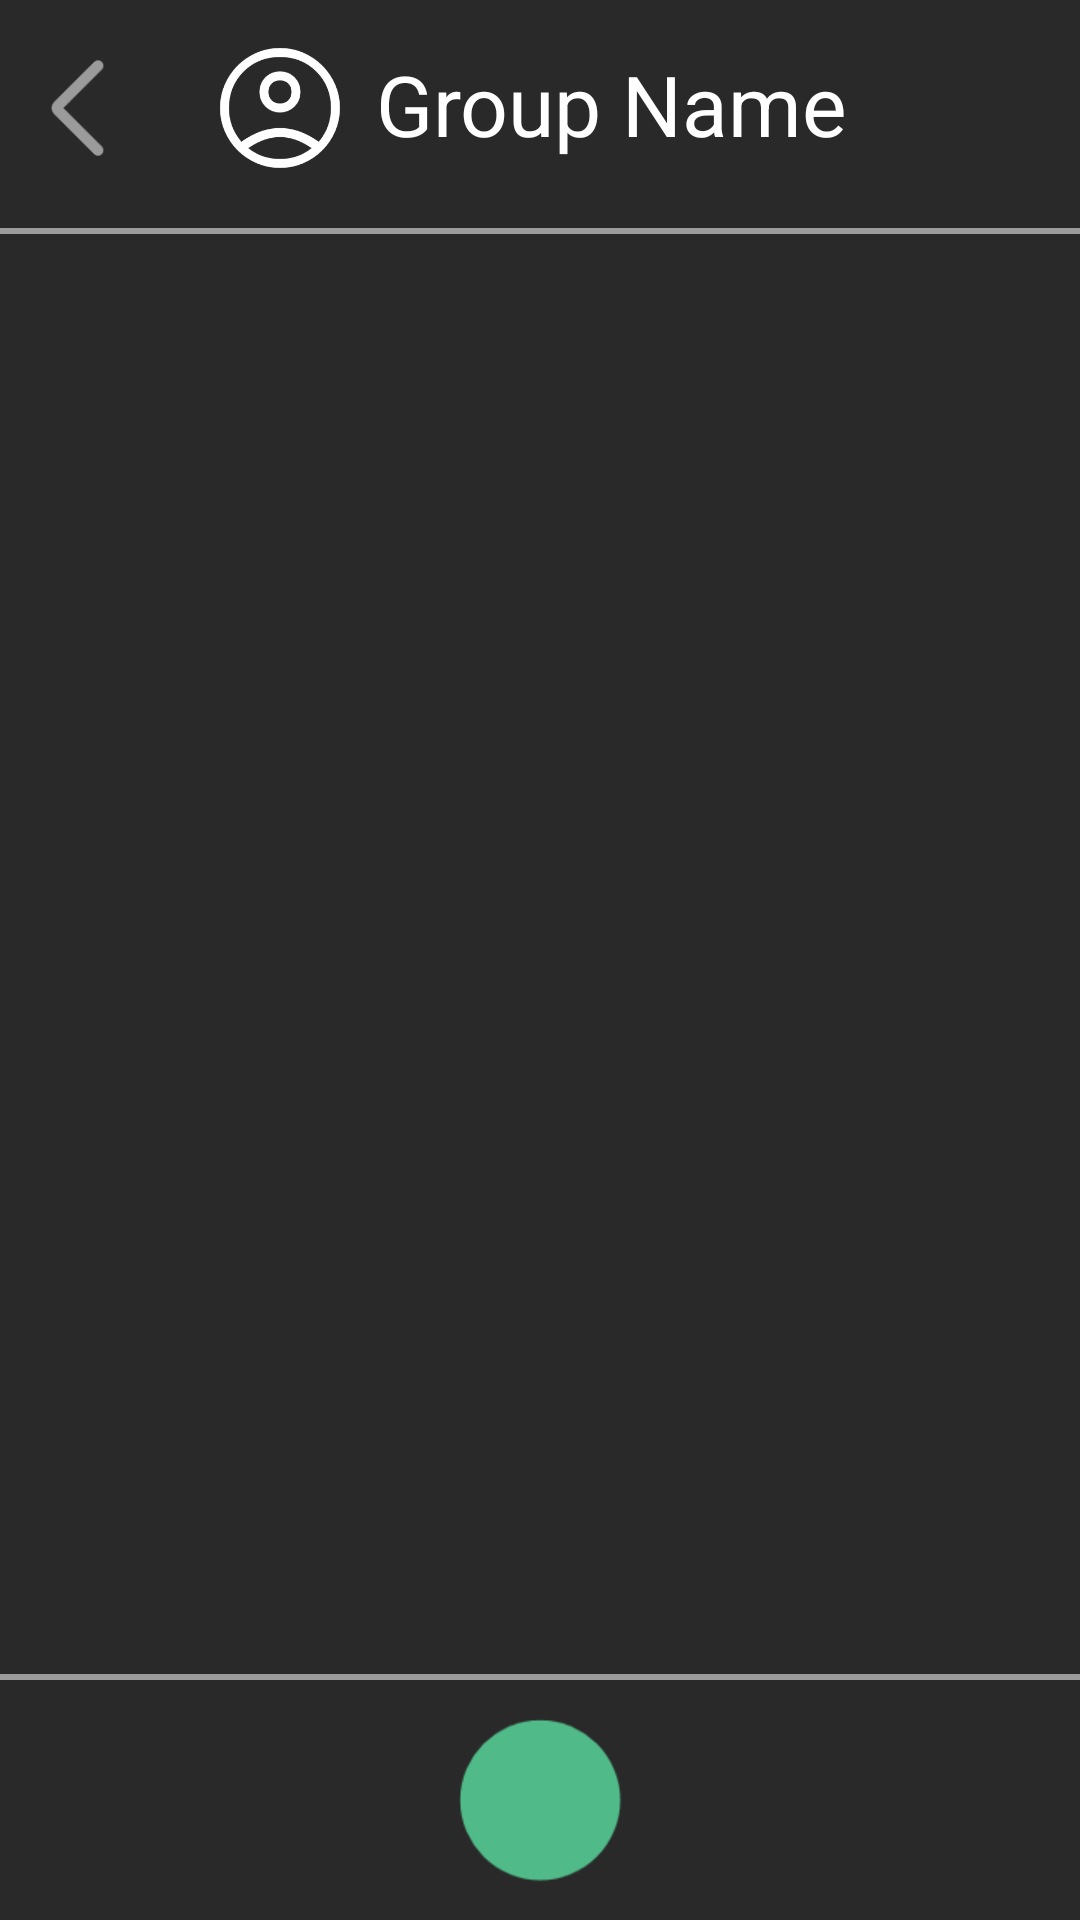

Where icons sit on this 1080px×1920px app screen, as (x1, y1, x2, y2):
account: (220, 48, 340, 168)
back arrow: (51, 60, 104, 156)
